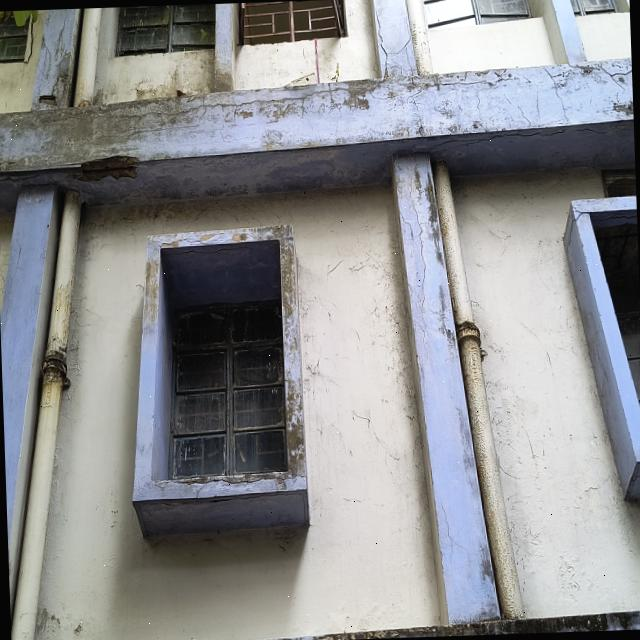crack: (105, 86, 349, 120), (409, 168, 428, 353), (426, 127, 567, 149), (141, 492, 302, 507), (403, 77, 487, 105), (567, 63, 631, 96), (163, 473, 306, 487), (541, 66, 570, 118), (374, 4, 389, 78), (565, 209, 590, 248), (22, 11, 39, 66), (0, 172, 57, 188), (38, 42, 51, 93), (574, 124, 633, 135), (50, 53, 65, 95), (59, 79, 66, 106)
peeling: (141, 223, 305, 480), (38, 94, 56, 105)
spalling: (81, 156, 136, 180)
stain_mould: (0, 58, 634, 208), (86, 50, 241, 105), (42, 356, 69, 388)
